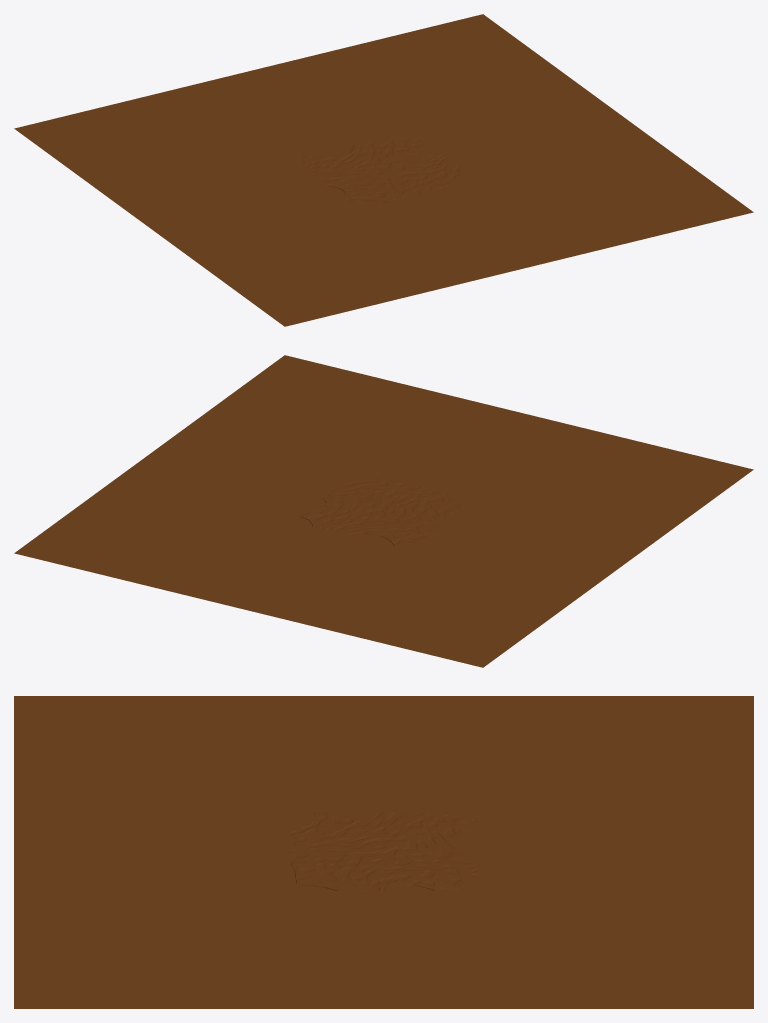
File: dunes.gltf
3 renders of one model, top to bottom at view 1: azimuth 30°, elevation 25°; view 2: azimuth 150°, elevation 25°; view 3: azimuth 270°, elevation 25°, orthographic. The views are drawn at different scales.
Visible parts, largest first — view 1: ground1; view 2: ground1; view 3: ground1.
Part boxes in pixels (left/top/right/bottom): ground1: left=14, top=14, right=753, bottom=326; ground1: left=14, top=355, right=753, bottom=667; ground1: left=14, top=696, right=753, bottom=1008.
Bounding box in the file's own units: 1000 × 1.54 × 1000.
